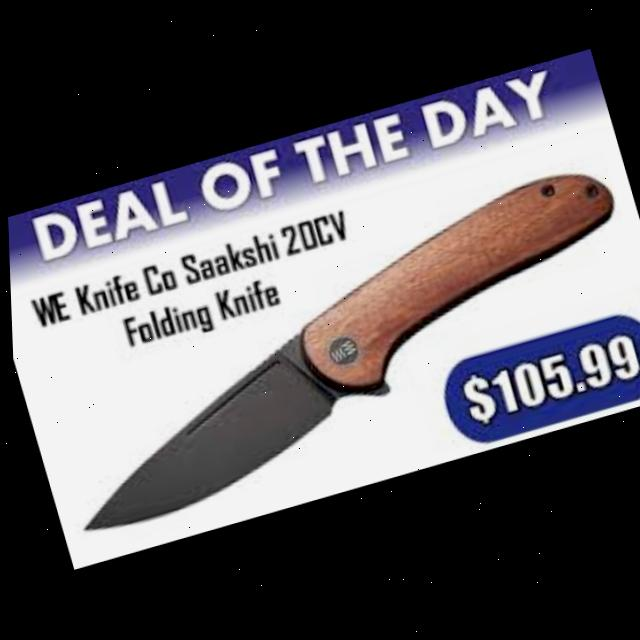knife: (17, 161, 640, 538)
